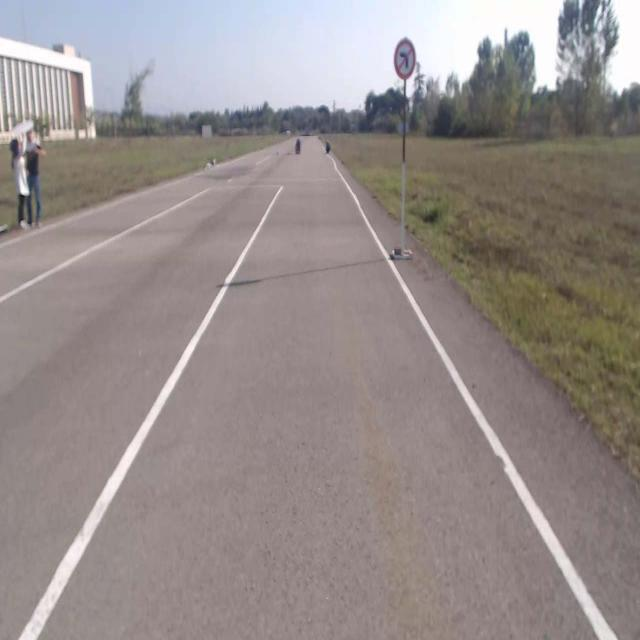soladonulmez: (394, 39, 418, 77)
